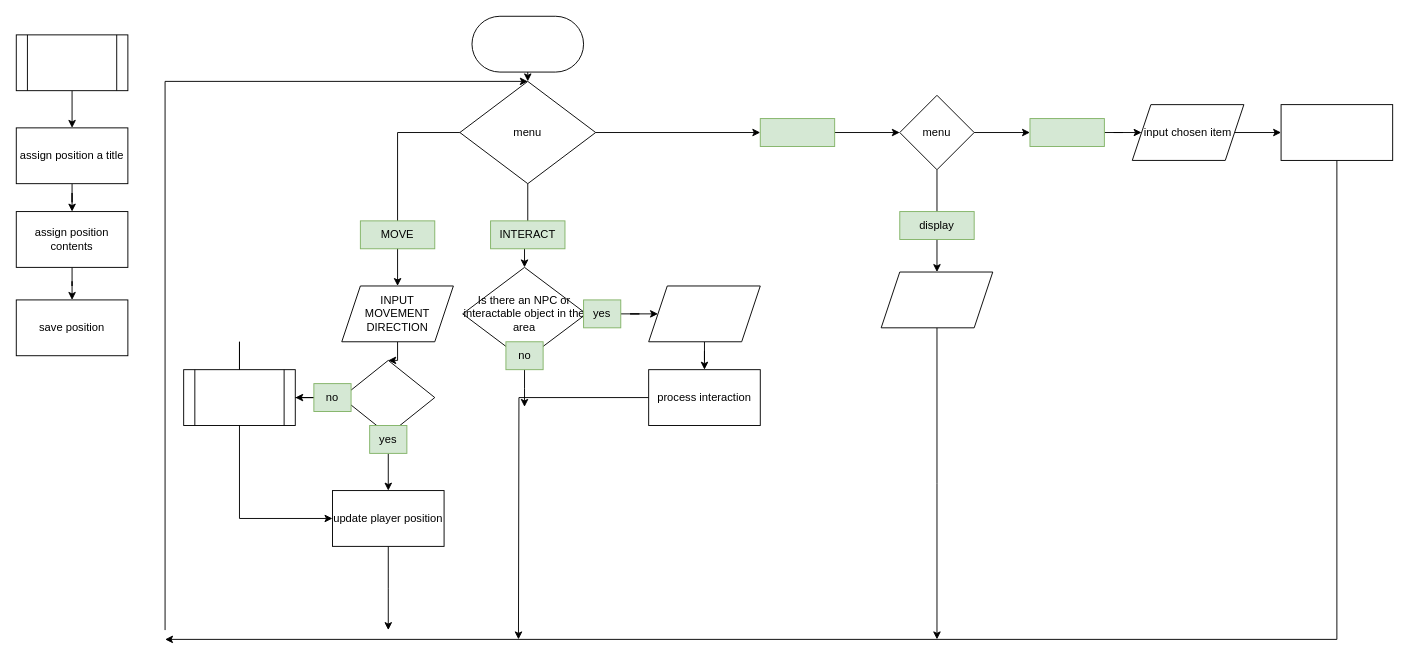
Some shapes in this 1409 by 663 pixel diagram are drawn without their labels. Each missing label, with the centre of its shape:
"assign chosen item to correct position" goes at [1336,132].
"equip" goes at [1066,132].
"generate position" goes at [71,62].
"Genrate position" goes at [239,397].
"INPUT player action" goes at [704,313].
"INVENTORY" goes at [797,132].
"Is area generated?" goes at [388,397].
"output inventory" goes at [936,299].
"start" goes at [527,43].
